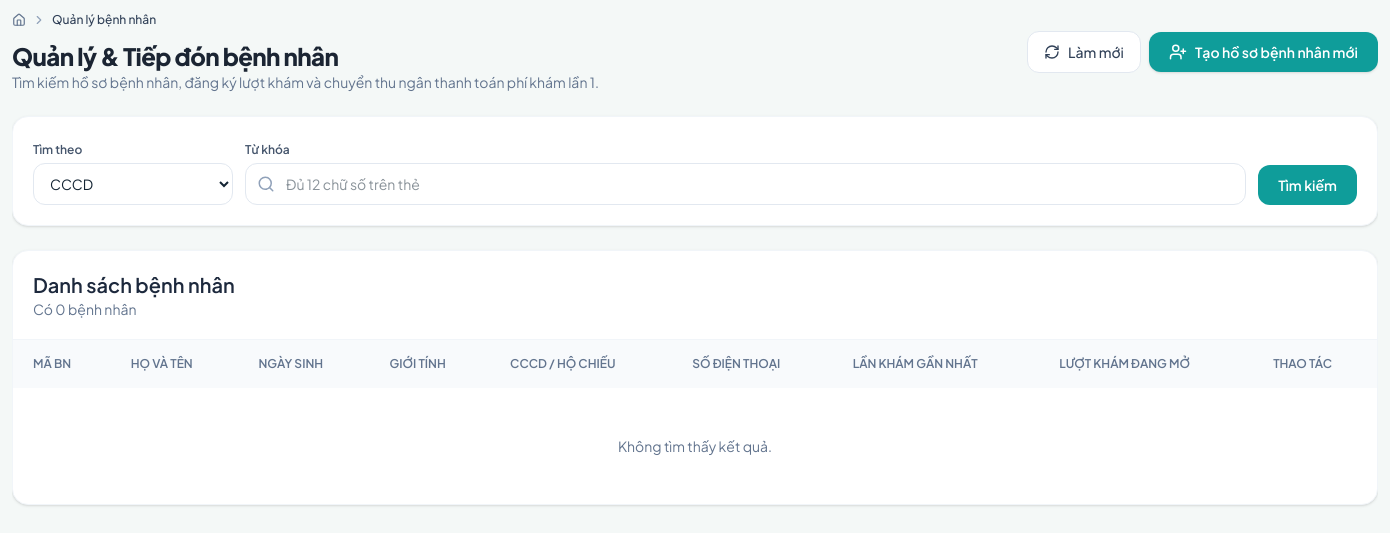
Scenario: ReceptionistPatientsPage (UC-35) › pages through search results and keeps the search on every page
This screenshot has width=1390, height=533.
Expected: the text "Không tìm thấy kết quả." is shown, top-left (618, 436), bottom-right (772, 456)
Select "Họ tên" in the dropdown labelled "Tìm theo": (133, 184) top-left (33, 163), bottom-right (233, 205)
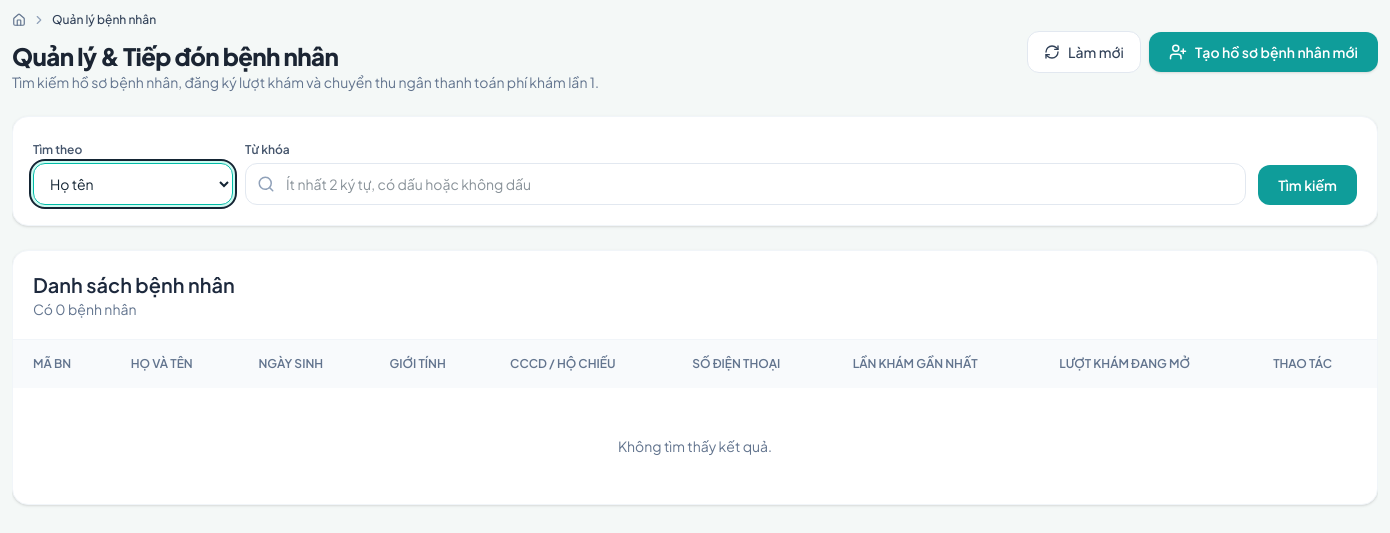
In the field labelled "Từ khóa": (746, 184) top-left (245, 163), bottom-right (1246, 205), type "Nguyễn"
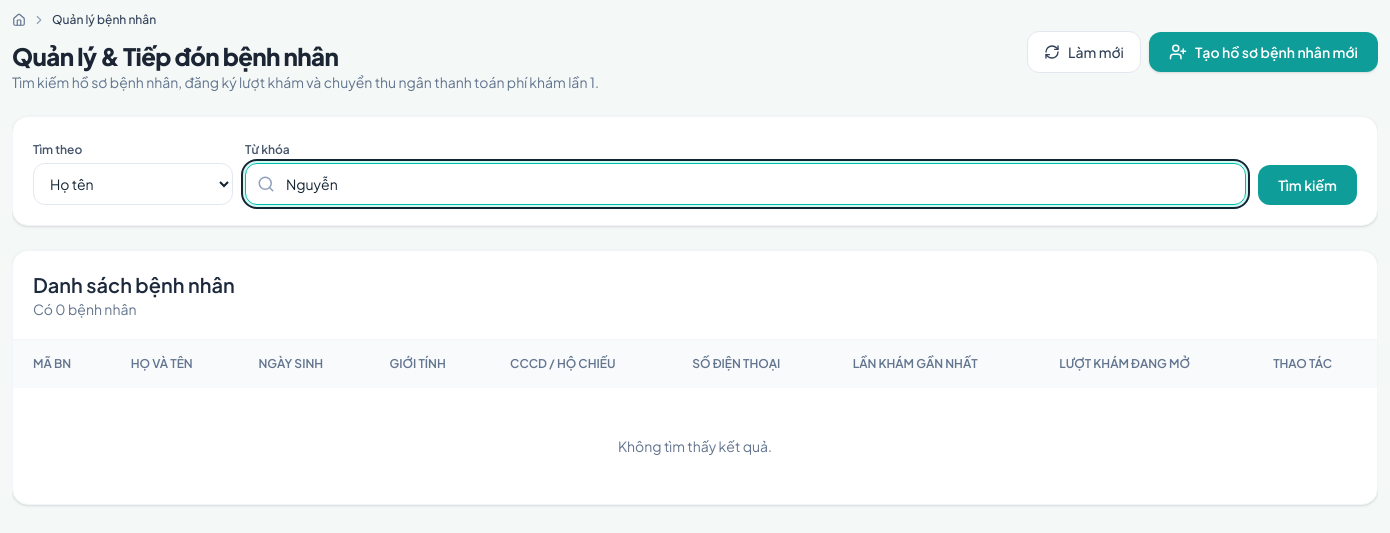
Click the button "Tìm kiếm": (1308, 185) top-left (1258, 165), bottom-right (1357, 205)
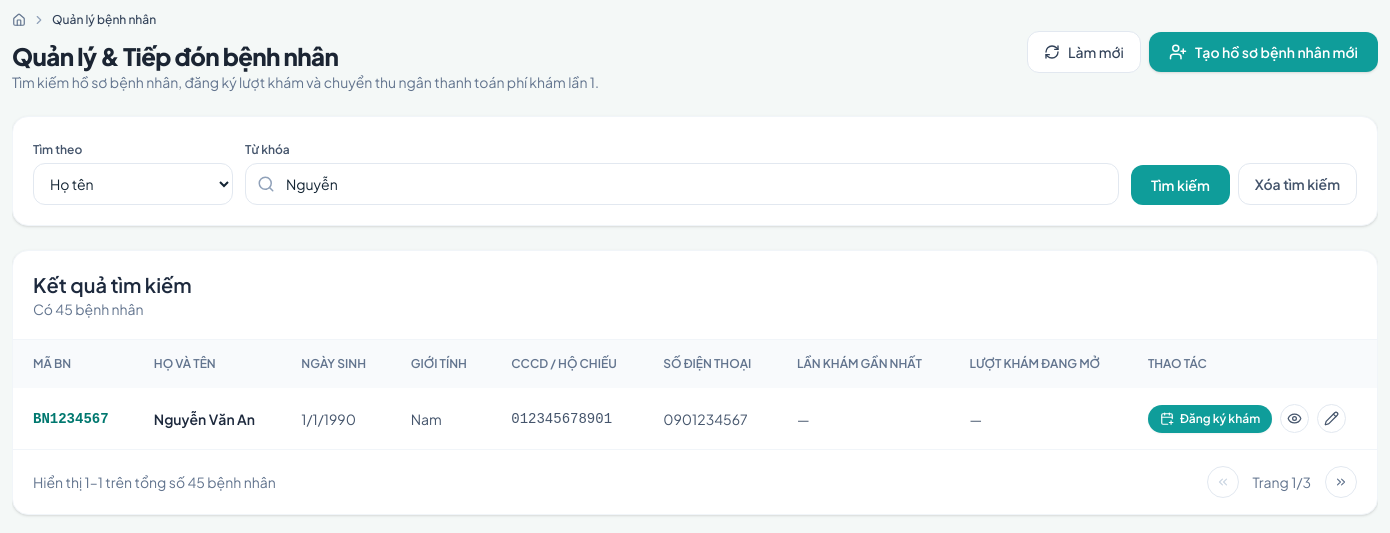
Now the text "Trang 1/3" is shown, box top-left (1252, 473), bottom-right (1311, 491)
Now the text "Có 45 bệnh nhân" is shown, box top-left (33, 300), bottom-right (144, 318)
Now the button named "Trang trước" is disabled, box top-left (1206, 466), bottom-right (1238, 498)
Click the button named "Trang sau": (1341, 482) top-left (1325, 466), bottom-right (1357, 498)
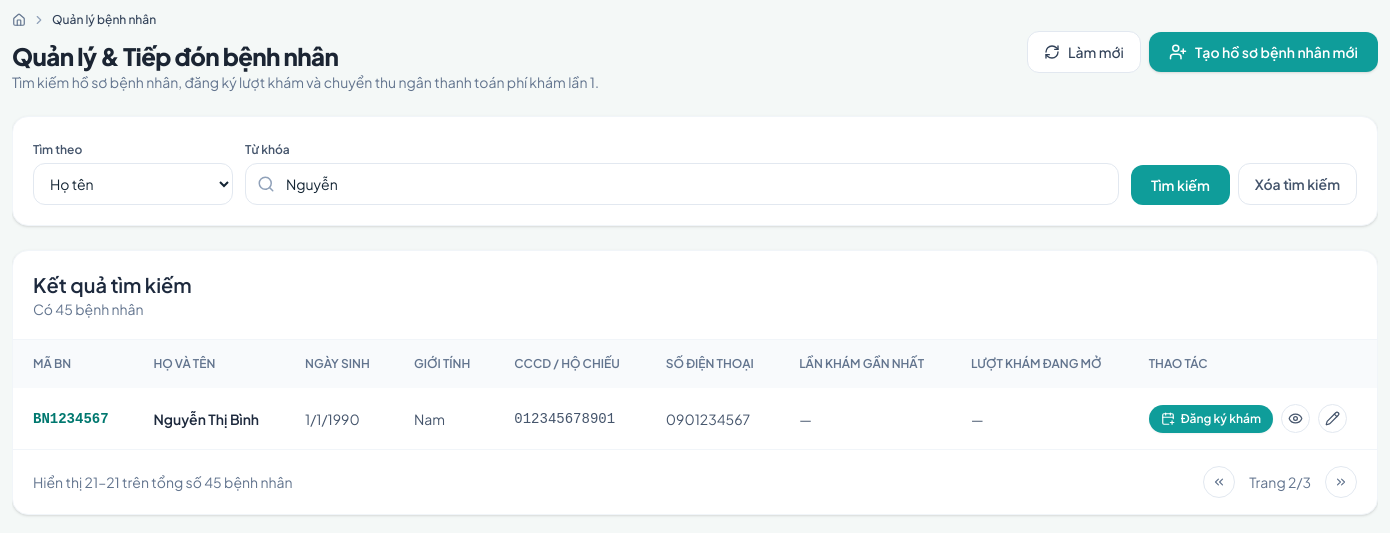
Now the button "Nguyễn Thị Bình" is shown, box top-left (153, 408), bottom-right (259, 428)
Now the text "Trang 2/3" is shown, box top-left (1249, 473), bottom-right (1311, 491)
